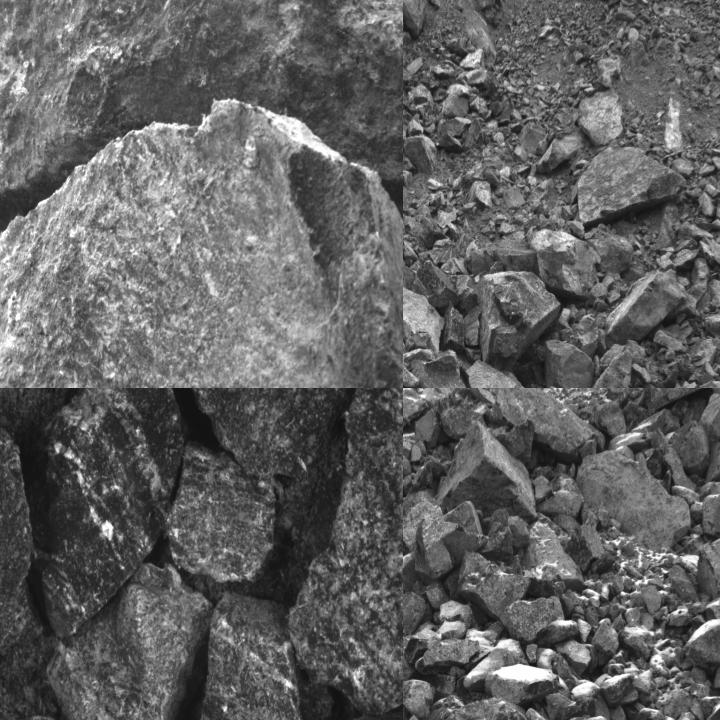stone: (0, 0, 402, 387), (0, 98, 402, 387), (291, 388, 402, 717), (39, 388, 180, 637), (146, 388, 391, 522), (46, 561, 212, 719), (192, 577, 315, 719), (168, 442, 276, 581), (577, 450, 690, 552), (434, 423, 532, 518), (492, 388, 605, 465), (414, 502, 487, 580), (530, 227, 600, 299), (457, 552, 530, 619), (524, 520, 583, 598), (484, 665, 568, 707), (464, 638, 526, 689), (504, 596, 566, 646), (403, 285, 445, 351), (578, 87, 624, 145), (668, 424, 710, 477), (403, 630, 440, 690), (418, 637, 481, 672), (413, 260, 458, 306), (696, 536, 719, 620), (558, 313, 599, 360), (642, 388, 719, 413), (685, 618, 719, 671), (442, 398, 490, 435), (448, 698, 528, 719), (568, 524, 602, 570), (482, 509, 513, 558), (590, 237, 631, 271), (602, 672, 640, 708), (593, 397, 626, 438), (404, 136, 437, 175), (428, 119, 468, 150), (403, 591, 433, 632), (403, 388, 427, 439), (403, 681, 435, 719), (620, 620, 651, 658), (699, 392, 719, 449), (592, 621, 619, 658), (700, 491, 719, 540), (697, 235, 719, 272), (654, 329, 688, 352), (595, 58, 621, 87), (430, 240, 461, 264), (677, 221, 713, 240), (442, 94, 470, 118), (705, 304, 719, 340), (460, 50, 485, 70), (707, 440, 719, 481), (672, 248, 698, 266), (714, 653, 719, 690), (683, 382, 699, 387)
